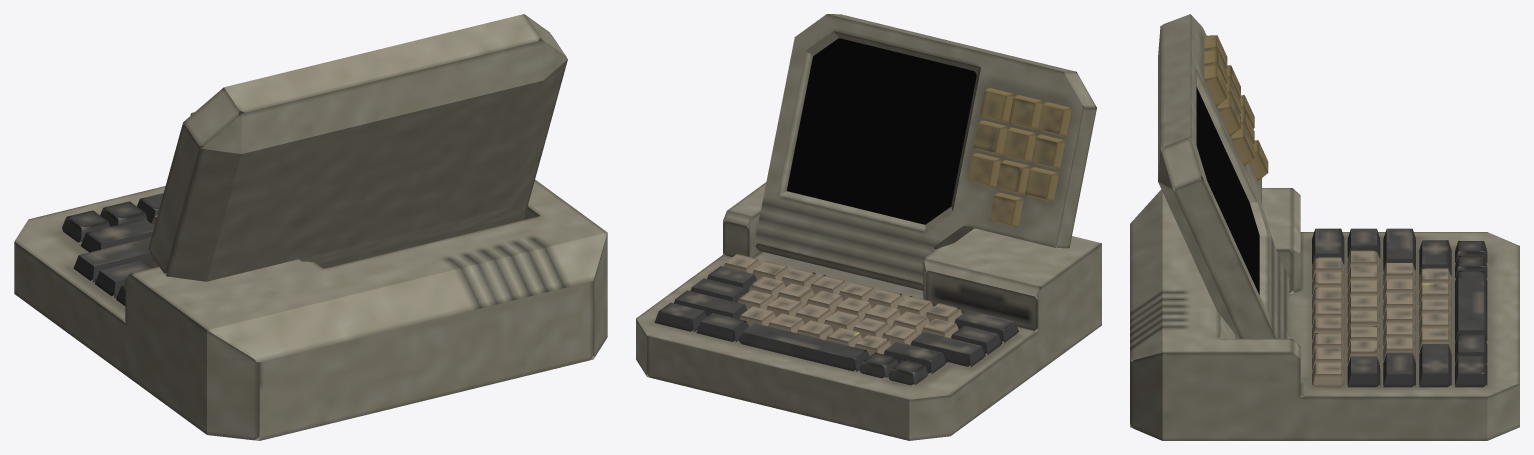
File: nout.fbx
3 renders of one model, left to right at view 1: azimuth 30°, elevation 25°; view 2: azimuth 150°, elevation 25°; view 3: azimuth 270°, elevation 25°, orthographic. The views are drawn at different scales.
Visible parts, largest first — view 1: beveled_cuboid, beveled_cuboid_1, group; view 2: beveled_cuboid_1, beveled_cuboid, group, group2, spes, shft, ctrl, mesh_selection_selection, mesh_selection_selection_3, mesh_selection_selection_2, mesh_selection_selection_1; view 3: beveled_cuboid, beveled_cuboid_1, group, group2, spes, shft, ctrl, mesh_selection_selection_2, mesh_selection_selection_1, mesh_selection_selection, mesh_selection_selection_3.
Boxes of the visible parts, bbox=[...] form: beveled_cuboid: bbox=[14, 179, 607, 440]; beveled_cuboid_1: bbox=[148, 14, 567, 281]; group: bbox=[62, 201, 158, 305]; beveled_cuboid_1: bbox=[754, 14, 1096, 290]; beveled_cuboid: bbox=[636, 182, 1101, 440]; group: bbox=[690, 254, 1018, 385]; group2: bbox=[967, 87, 1071, 227]; spes: bbox=[739, 323, 869, 371]; shft: bbox=[674, 290, 747, 318]; ctrl: bbox=[654, 302, 706, 331]; mesh_selection_selection: bbox=[777, 283, 814, 307]; mesh_selection_selection_3: bbox=[737, 290, 774, 309]; mesh_selection_selection_2: bbox=[766, 297, 802, 317]; mesh_selection_selection_1: bbox=[795, 304, 831, 323]; beveled_cuboid: bbox=[1130, 188, 1519, 440]; beveled_cuboid_1: bbox=[1158, 14, 1289, 338]; group: bbox=[1312, 228, 1487, 387]; group2: bbox=[1204, 35, 1268, 180]; spes: bbox=[1455, 271, 1487, 342]; shft: bbox=[1419, 344, 1451, 387]; ctrl: bbox=[1455, 356, 1487, 387]; mesh_selection_selection_2: bbox=[1383, 323, 1415, 345]; mesh_selection_selection_1: bbox=[1383, 308, 1415, 330]; mesh_selection_selection: bbox=[1347, 326, 1380, 347]; mesh_selection_selection_3: bbox=[1383, 338, 1415, 360].
Size of the model in its own units: 75 by 58.59 by 75.
Materials: 1 (1 with a texture image).
